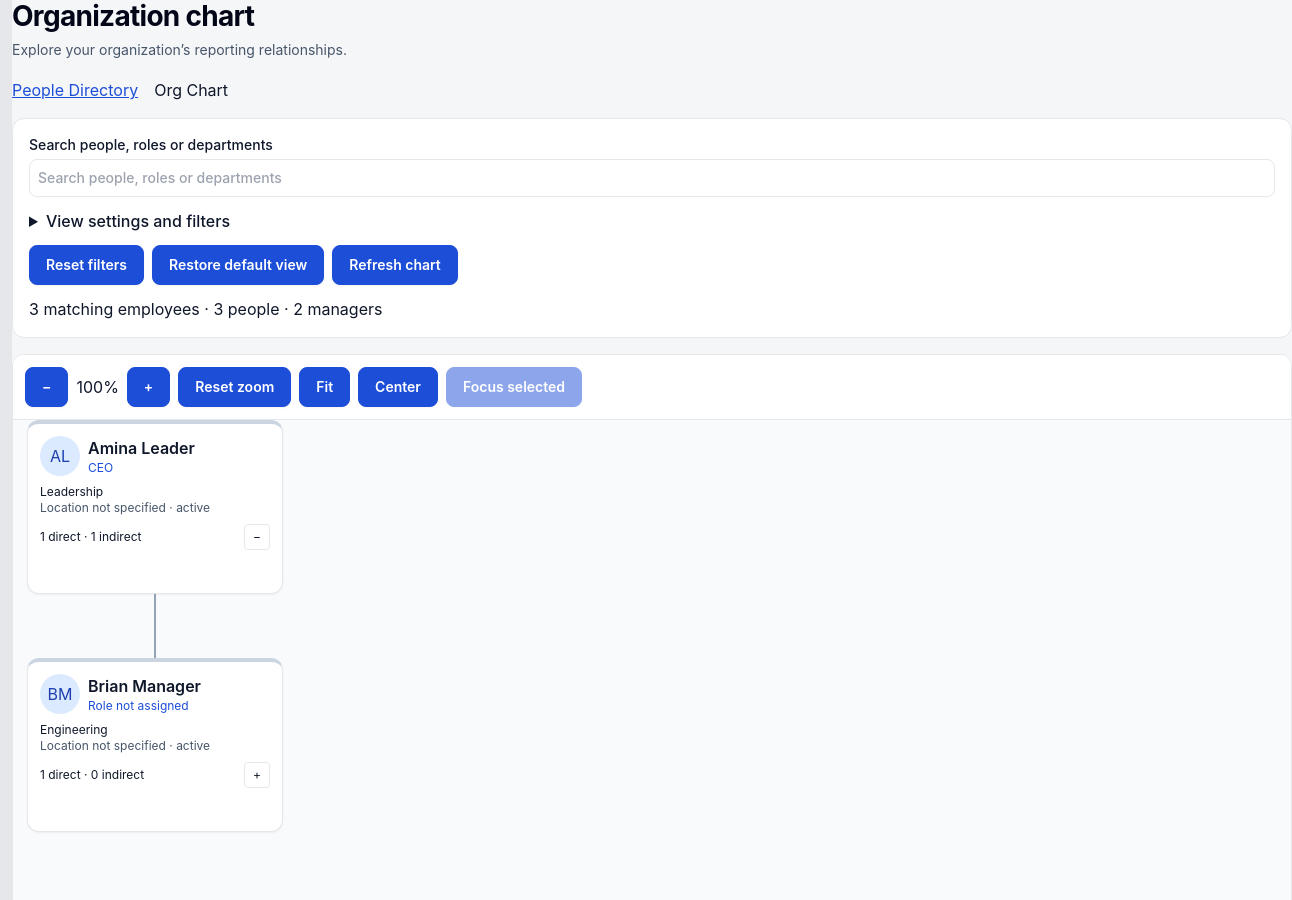
search reveals ancestors, selection opens details, filters and layout preserve selection
This screenshot has width=1292, height=900.
Later steps or results of the test are not shown.
Expected: the button with aria-label "View Amina Leader" is shown, [40,436,270,476]
Type "Carol" into the field with placeholder "Search people, roles or departments" at (652, 178), box [29,159,1275,197]
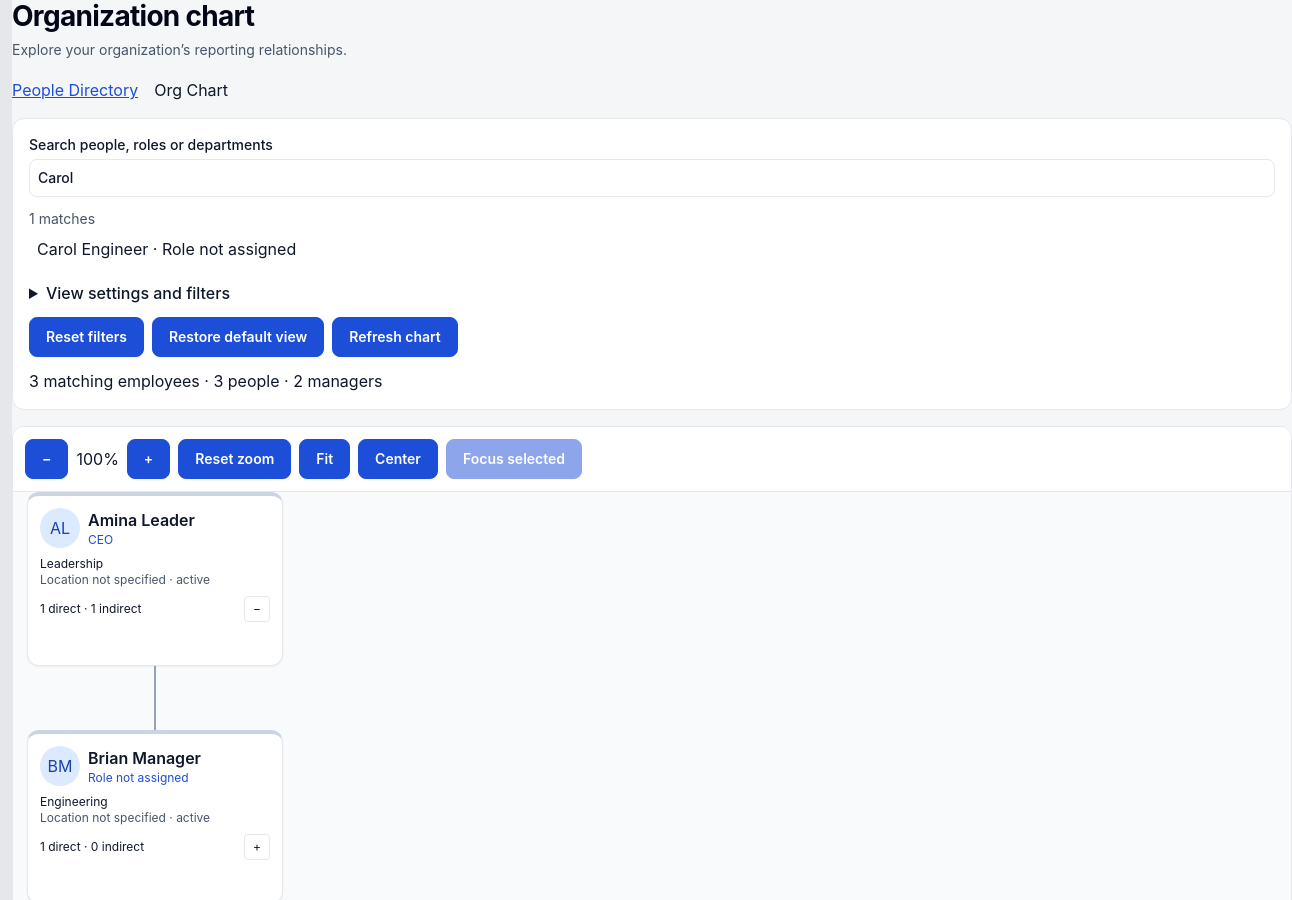
Click the button "Carol Engineer · Role not assigned" at (93, 249), box [29,229,1275,269]
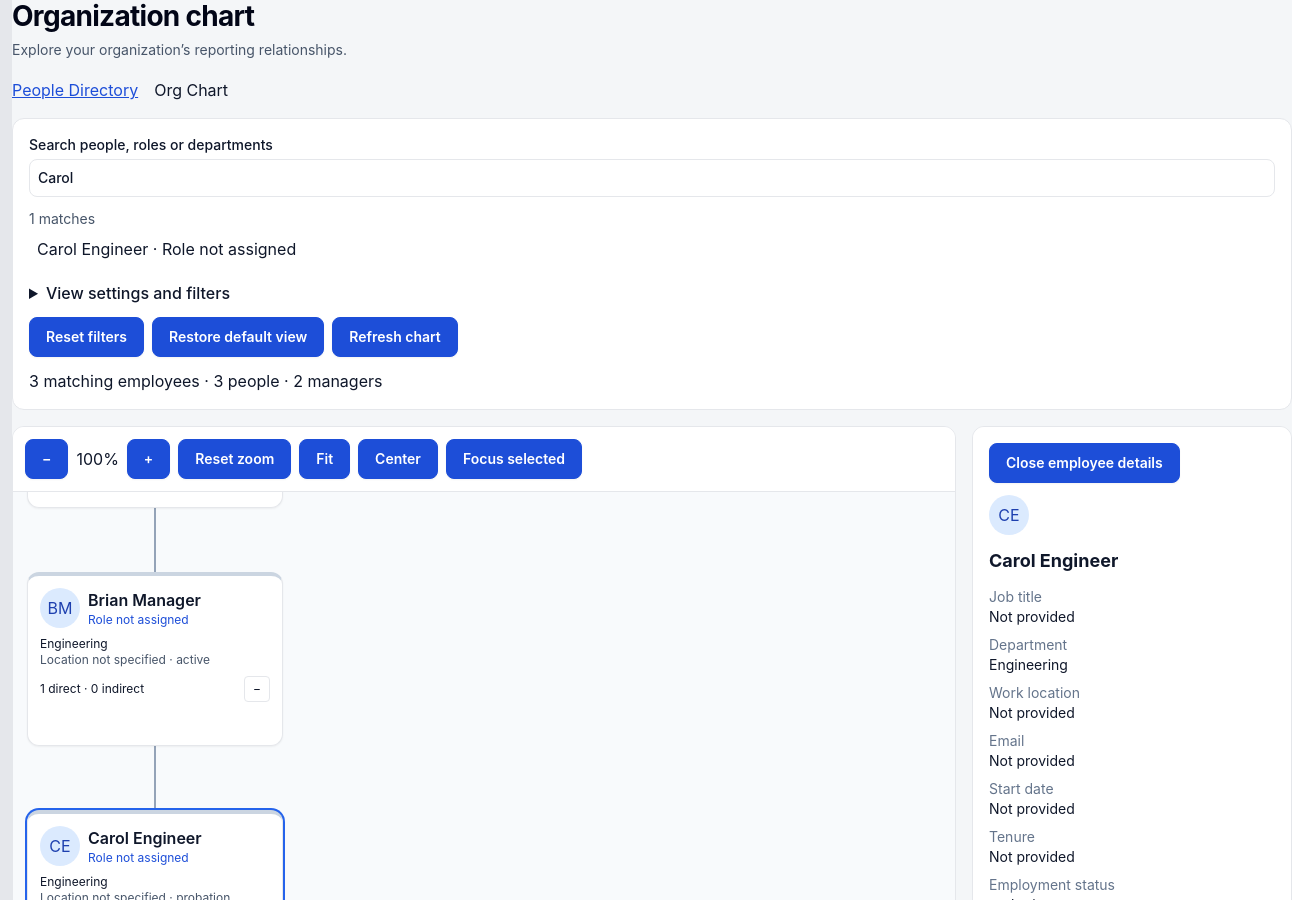
Expected: the heading "Carol Engineer" is shown, [989,550,1118,571]
Click the heading "View settings and filters" at (138, 293), box [46,283,230,303]
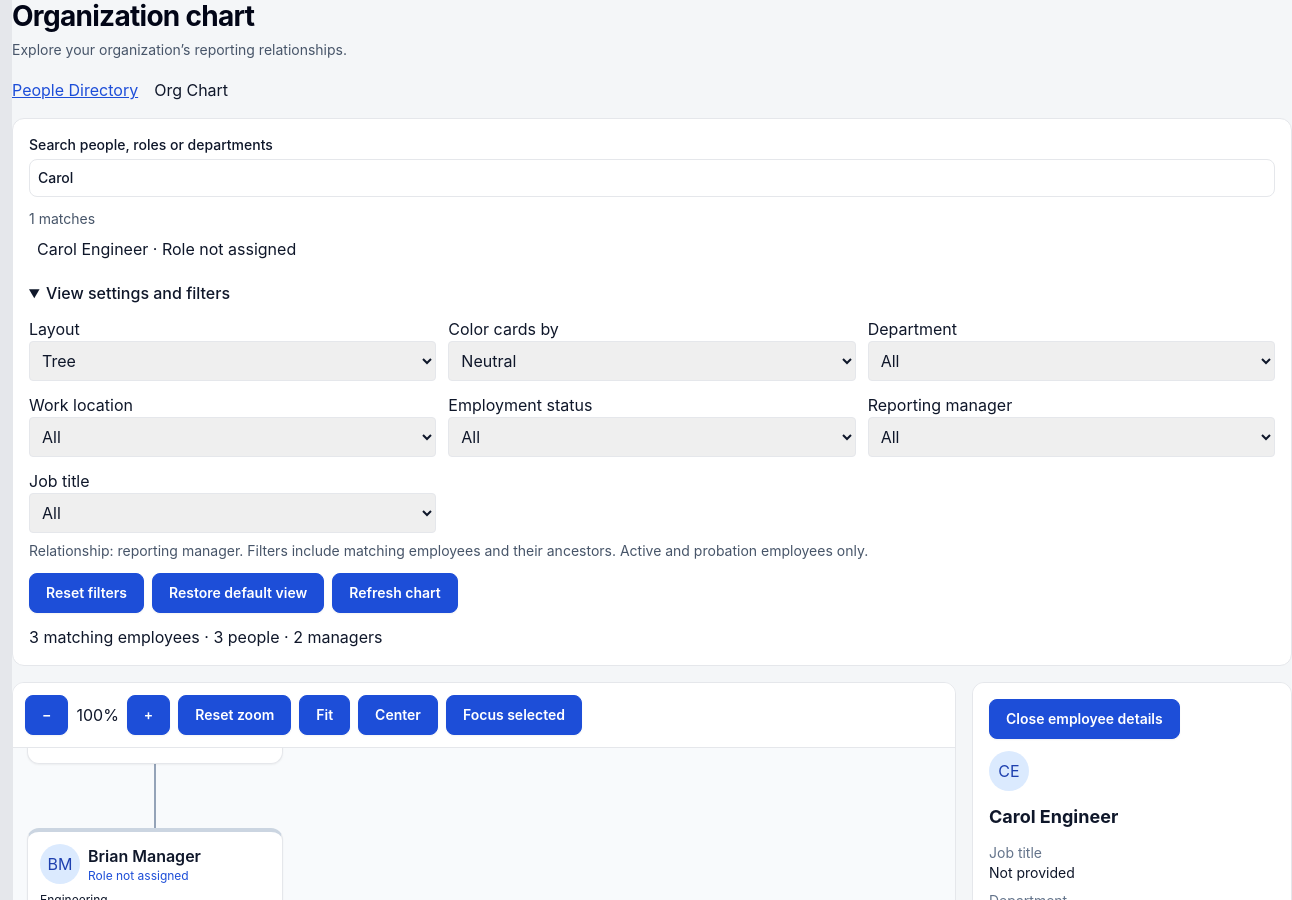
Select "Stacked" in the dropdown labelled "Layout" at (233, 361), box [29,341,436,381]
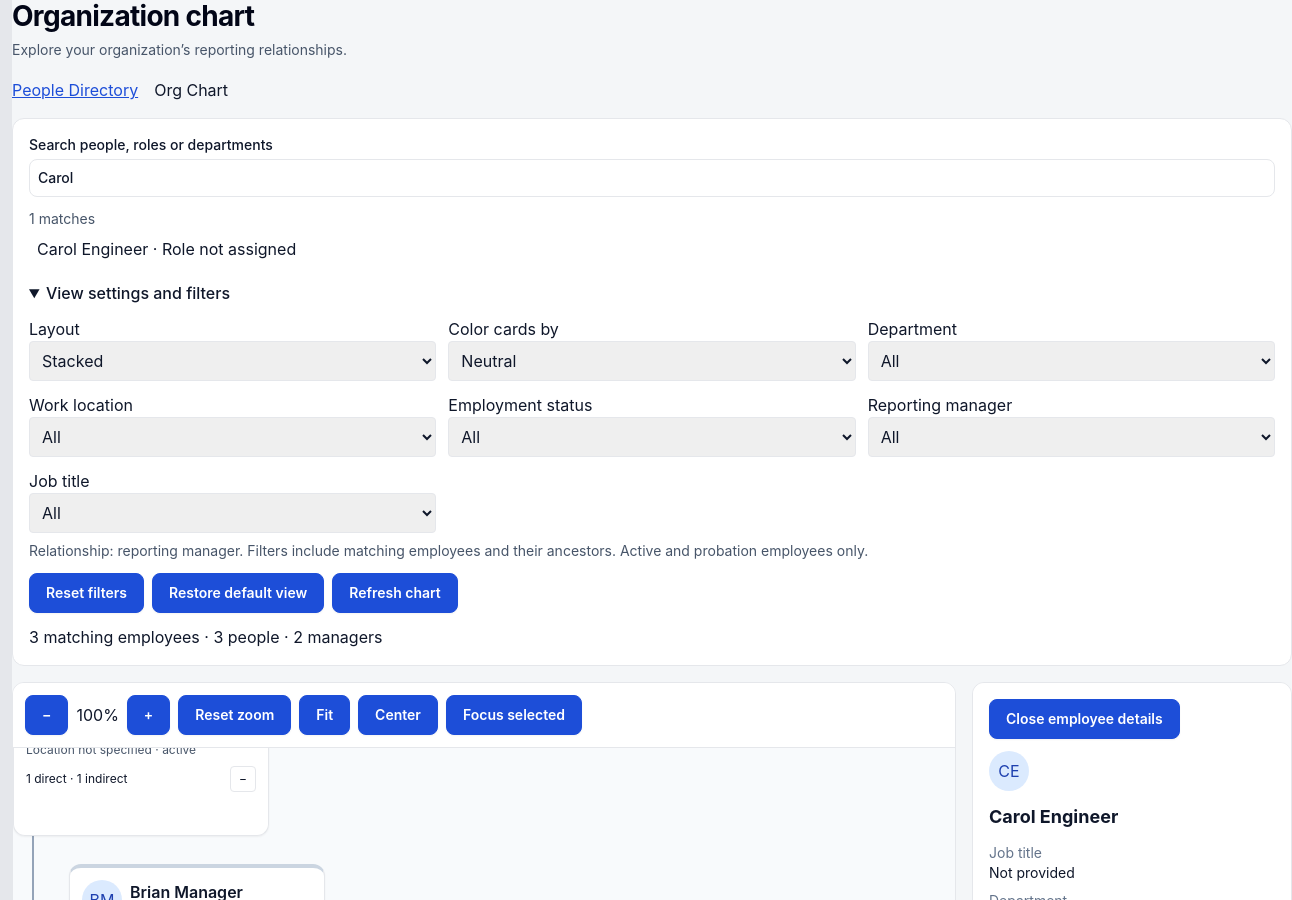
Expected: the heading "Carol Engineer" is shown, [989,806,1118,827]
Select "Engineering" in the dropdown named "Filter Department" at (1071, 361), box [868,341,1275,381]
(page scrolled)
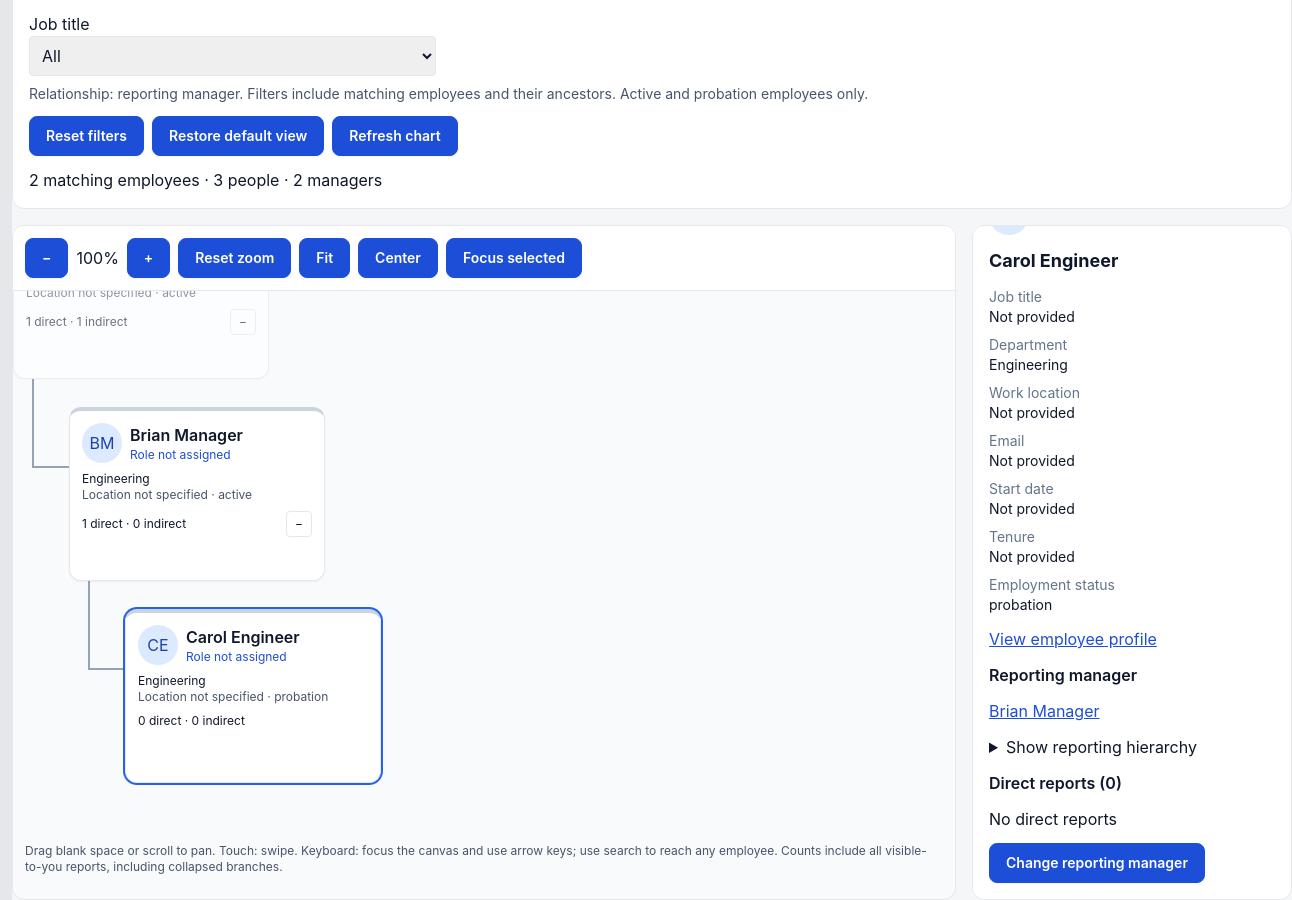
Expected: the text "2 matching employees · 3 people · 2 managers" is shown, [29,170,382,190]
Click the button "Brian Manager" at (1044, 711), box [989,699,1100,723]
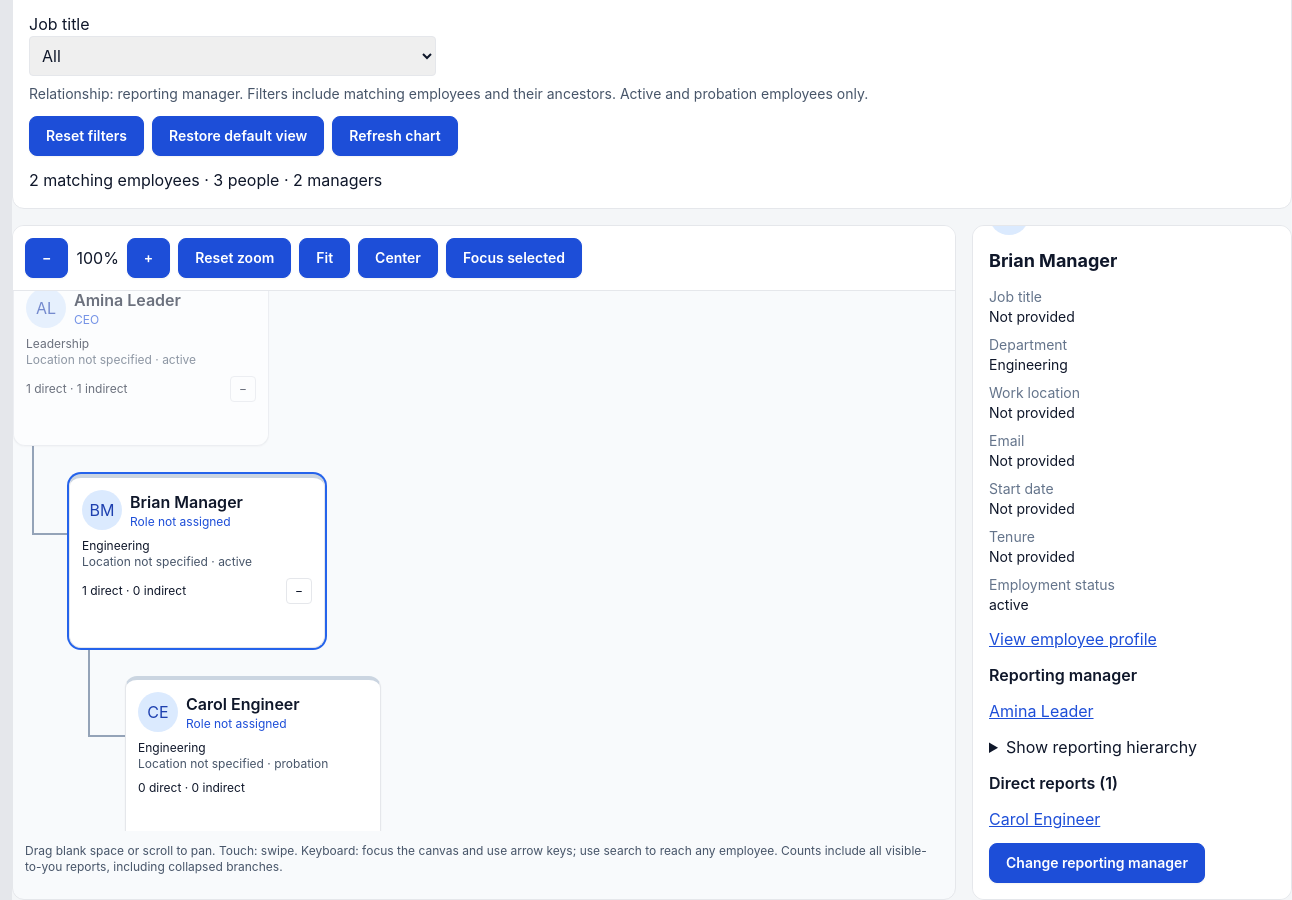
Expected: the heading "Brian Manager" is shown, [989,250,1117,271]
